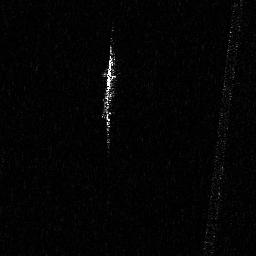ship: (100, 50, 117, 120)
